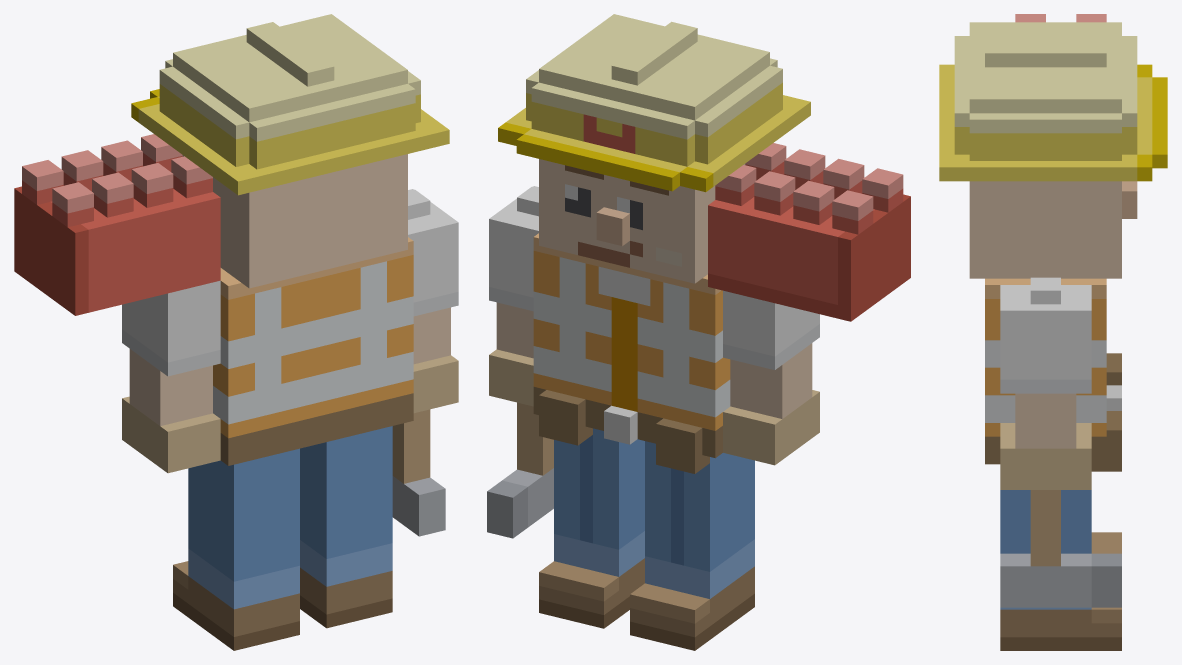
The model's file is BuilderinoMattoncino.glb.
3 views of the same model, side by side, from view 1: azimuth 30°, elevation 25°; view 2: azimuth 150°, elevation 25°; view 3: azimuth 270°, elevation 25° (orthographic).
Visible parts, largest first — view 1: geometry_0; view 2: geometry_0; view 3: geometry_0.
Part boxes in pixels (x1,y1,x2,y2): geometry_0: [14, 14, 458, 650]; geometry_0: [487, 14, 910, 650]; geometry_0: [939, 14, 1167, 650].
Size of the model in its own units: 0.6905 by 0.9762 by 0.3571.
